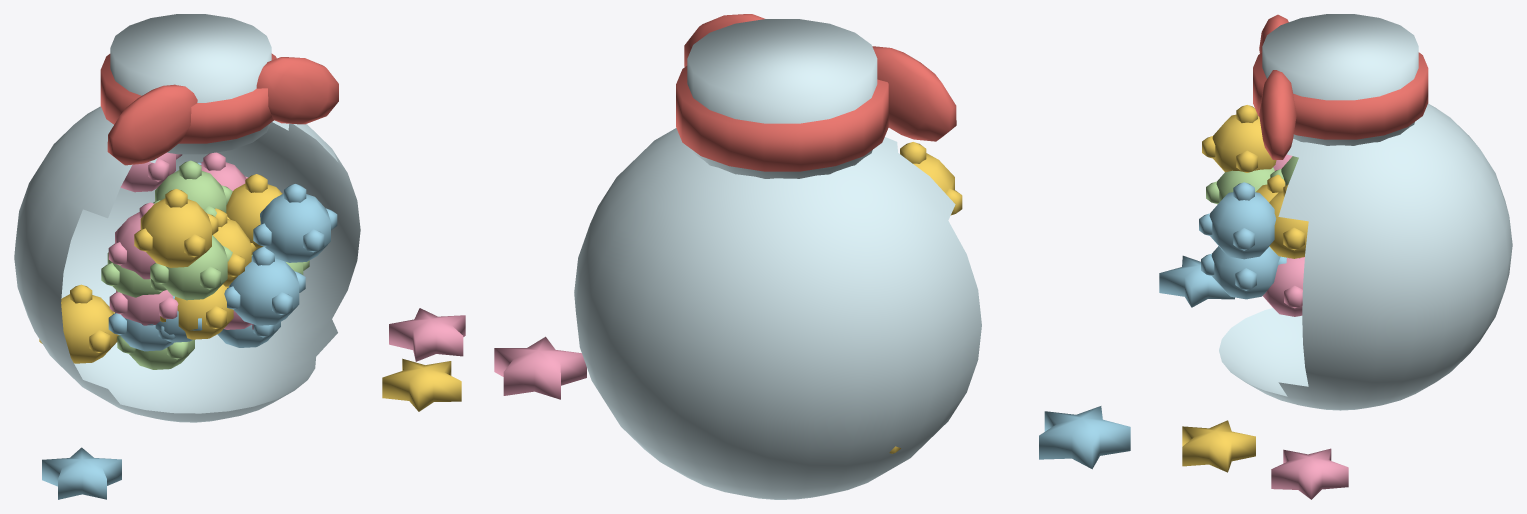
Rendered from night-star-candy.glb.
3 renders of one model, left to right at view 1: azimuth 30°, elevation 25°; view 2: azimuth 150°, elevation 25°; view 3: azimuth 270°, elevation 25°, orthographic. The views are drawn at different scales.
Visible parts, largest first — view 1: glass, jar; view 2: glass, jar; view 3: glass, jar.
Boxes of the visible parts, x1=… form: glass: x1=14, y1=14, x2=465, y2=499; jar: x1=39, y1=152, x2=337, y2=369; glass: x1=494, y1=14, x2=1130, y2=499; jar: x1=889, y1=142, x2=962, y2=453; glass: x1=1159, y1=14, x2=1512, y2=499; jar: x1=1199, y1=105, x2=1308, y2=316.
Bounding box in the file's own units: 0.3396 × 0.245 × 0.2258.
